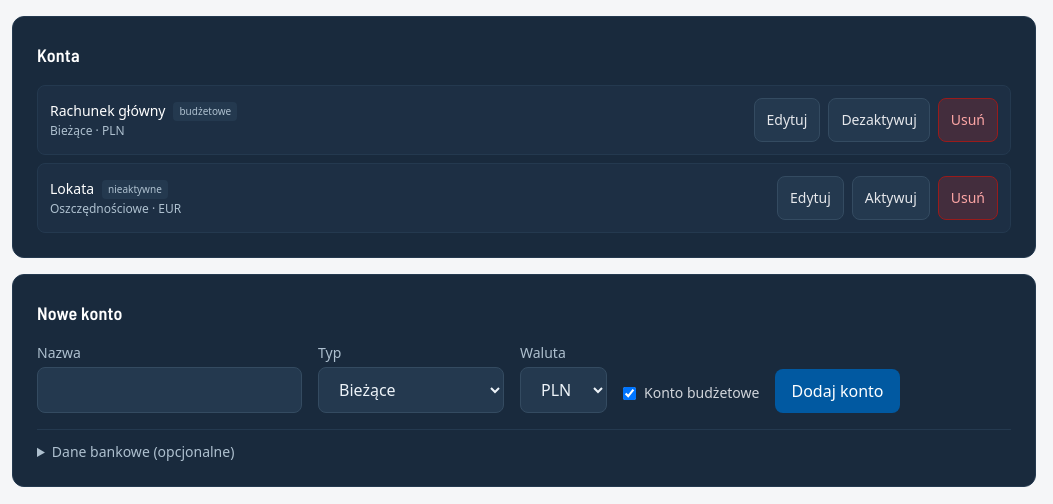
Test: FinanceAccounts › nie pokazuje danych rachunku bankowego dla nowego konta gotówkowego
Select "Gotówka" in the dropdown labelled "Typ" at (411, 390), box [318,367,504,413]
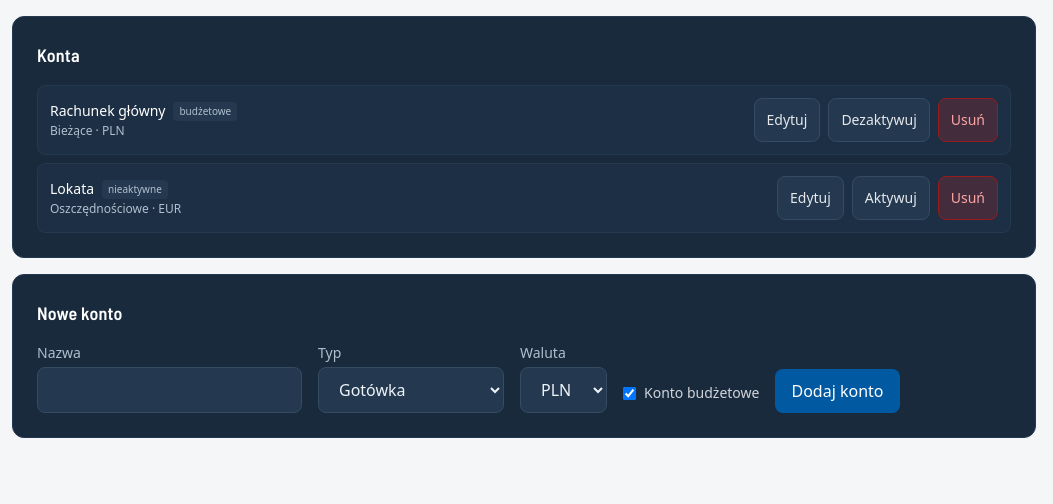
Expected: the heading "Dane bankowe (opcjonalne)" is gone
